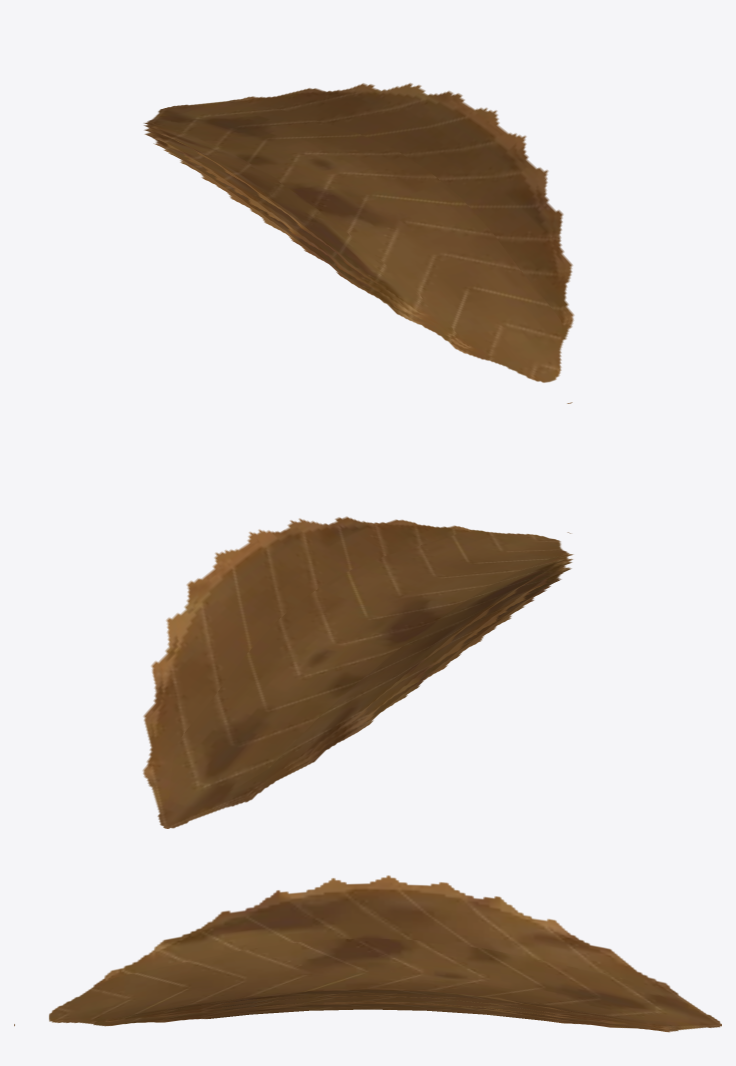
The model's file is prop_leaves.glb.
3 renders of one model, top to bottom at view 1: azimuth 30°, elevation 25°; view 2: azimuth 150°, elevation 25°; view 3: azimuth 270°, elevation 25°, orthographic. The views are drawn at different scales.
Visible parts, largest first — view 1: leaf_3, leaf_0, leaf_2; view 2: leaf_3, leaf_0, leaf_2; view 3: leaf_3, leaf_0, leaf_2, leaf_4, leaf_1.
Part boxes in pixels (box(x1,y1,x2,y2)): leaf_3: box(144, 84, 574, 380); leaf_0: box(147, 83, 570, 403); leaf_2: box(144, 112, 573, 403); leaf_3: box(143, 517, 573, 828); leaf_0: box(146, 516, 569, 828); leaf_2: box(143, 544, 572, 828); leaf_3: box(49, 876, 720, 1030); leaf_0: box(14, 875, 721, 1028); leaf_2: box(14, 1002, 721, 1032); leaf_4: box(49, 996, 677, 1029); leaf_1: box(49, 1006, 694, 1031).
Size of the model in its own units: 0.4345 by 0.1571 by 1.
1 material, 1 textured.
